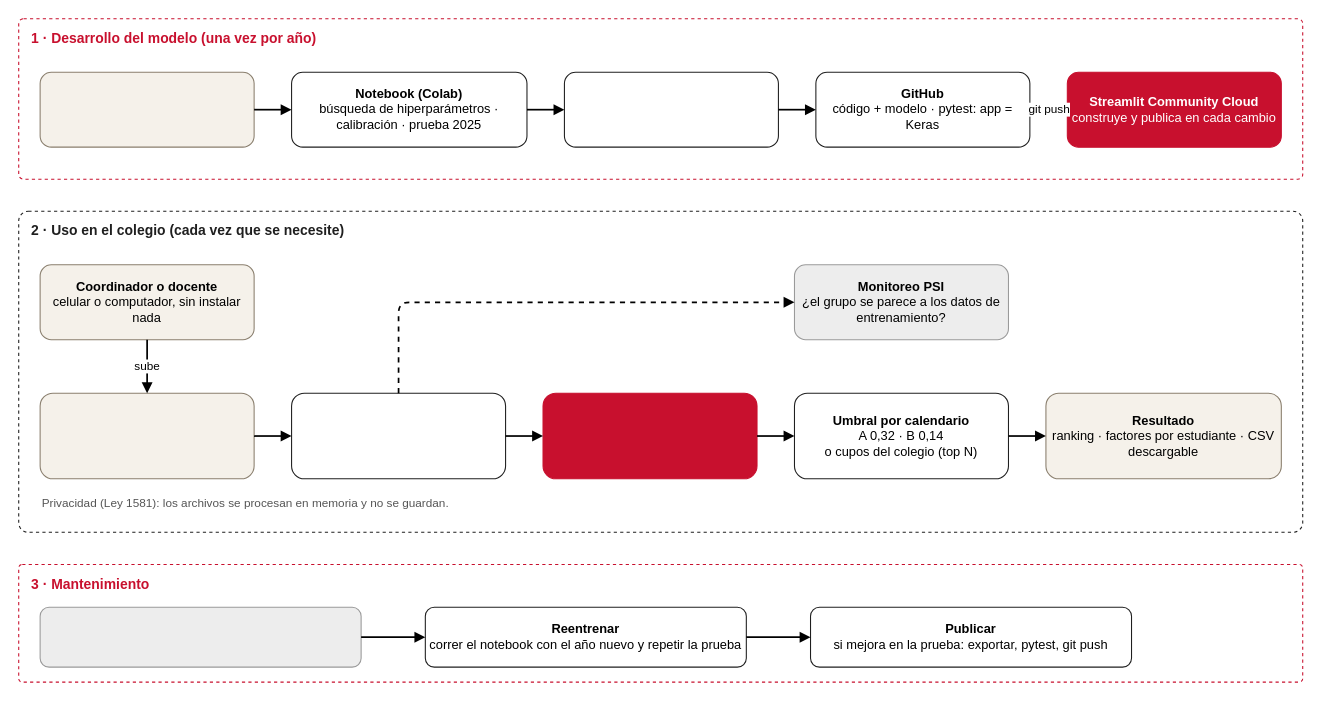
This 1321x701 diagram has some shape labels left out. The centre of each missing label's shape, as x and y in pixels:
"Archivo del grupo CSV/Excel · 13 respuestas · id opcional, sin nombres" belongs at point 146,435.
"Datos ICFES Saber 11 Cali 2019–2025 · 128 260 estudiantes" belongs at point 146,109.
"Disparadores nuevo año del ICFES · PSI > 0,25 en alguna variable" belongs at point 200,636.
"Exportación pesos_mlp.npz · modelo_meta.json" belongs at point 670,109.
"Motor NumPy one-hot (72) → 128 → 64 → 1 → calibración isotónica" belongs at point 649,435.
"Validación columnas faltantes y valores raros → «No reportado»" belongs at point 398,435.
